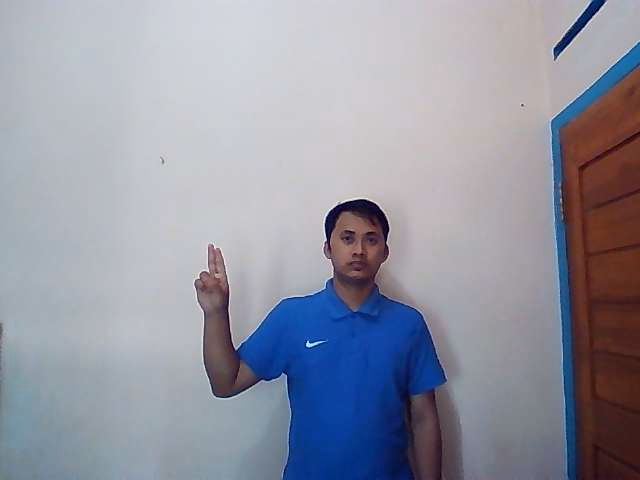U: (193, 242, 230, 311)
